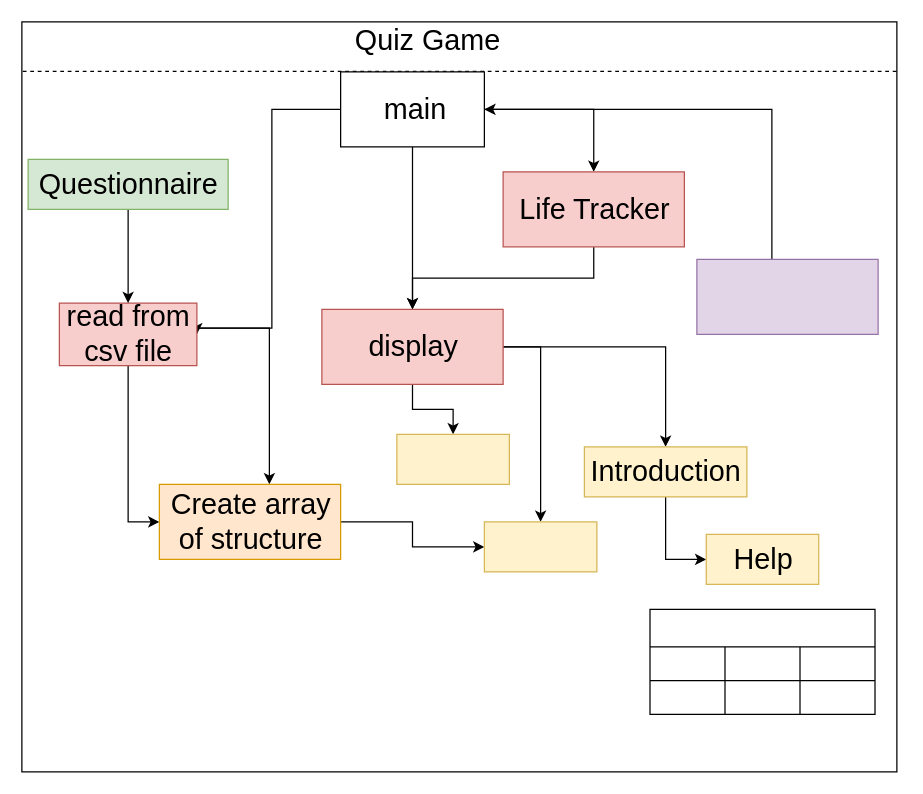
Some shapes in this 923 by 794 pixel diagram are drawn without their labels. Here are the shapes that lost their labels. From the top down, the centre of each, then its label:
At point 787,296: "Test Plan".
At point 452,458: "Life".
At point 540,546: "Quiz".
At point 762,661: "Legend".
